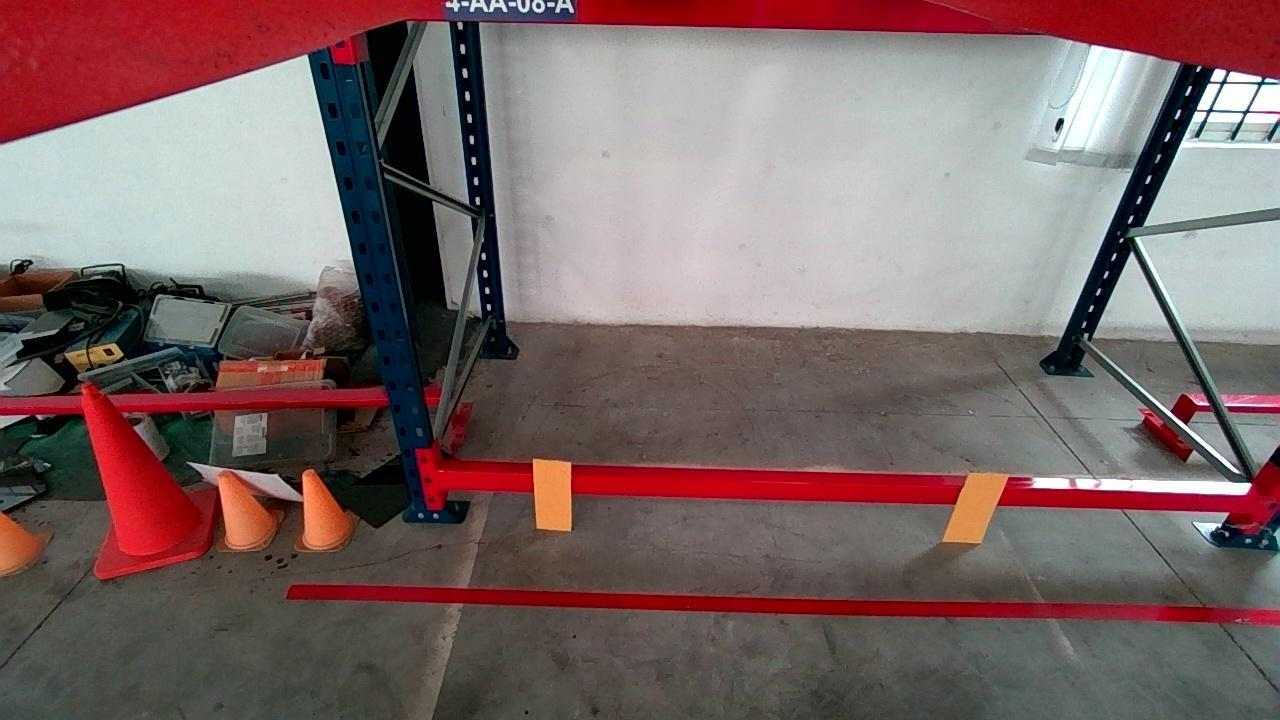h_rack: (436, 465, 1262, 519)
orange_strip: (945, 472, 1010, 543), (534, 458, 572, 531)
red_line: (284, 580, 1280, 627)
